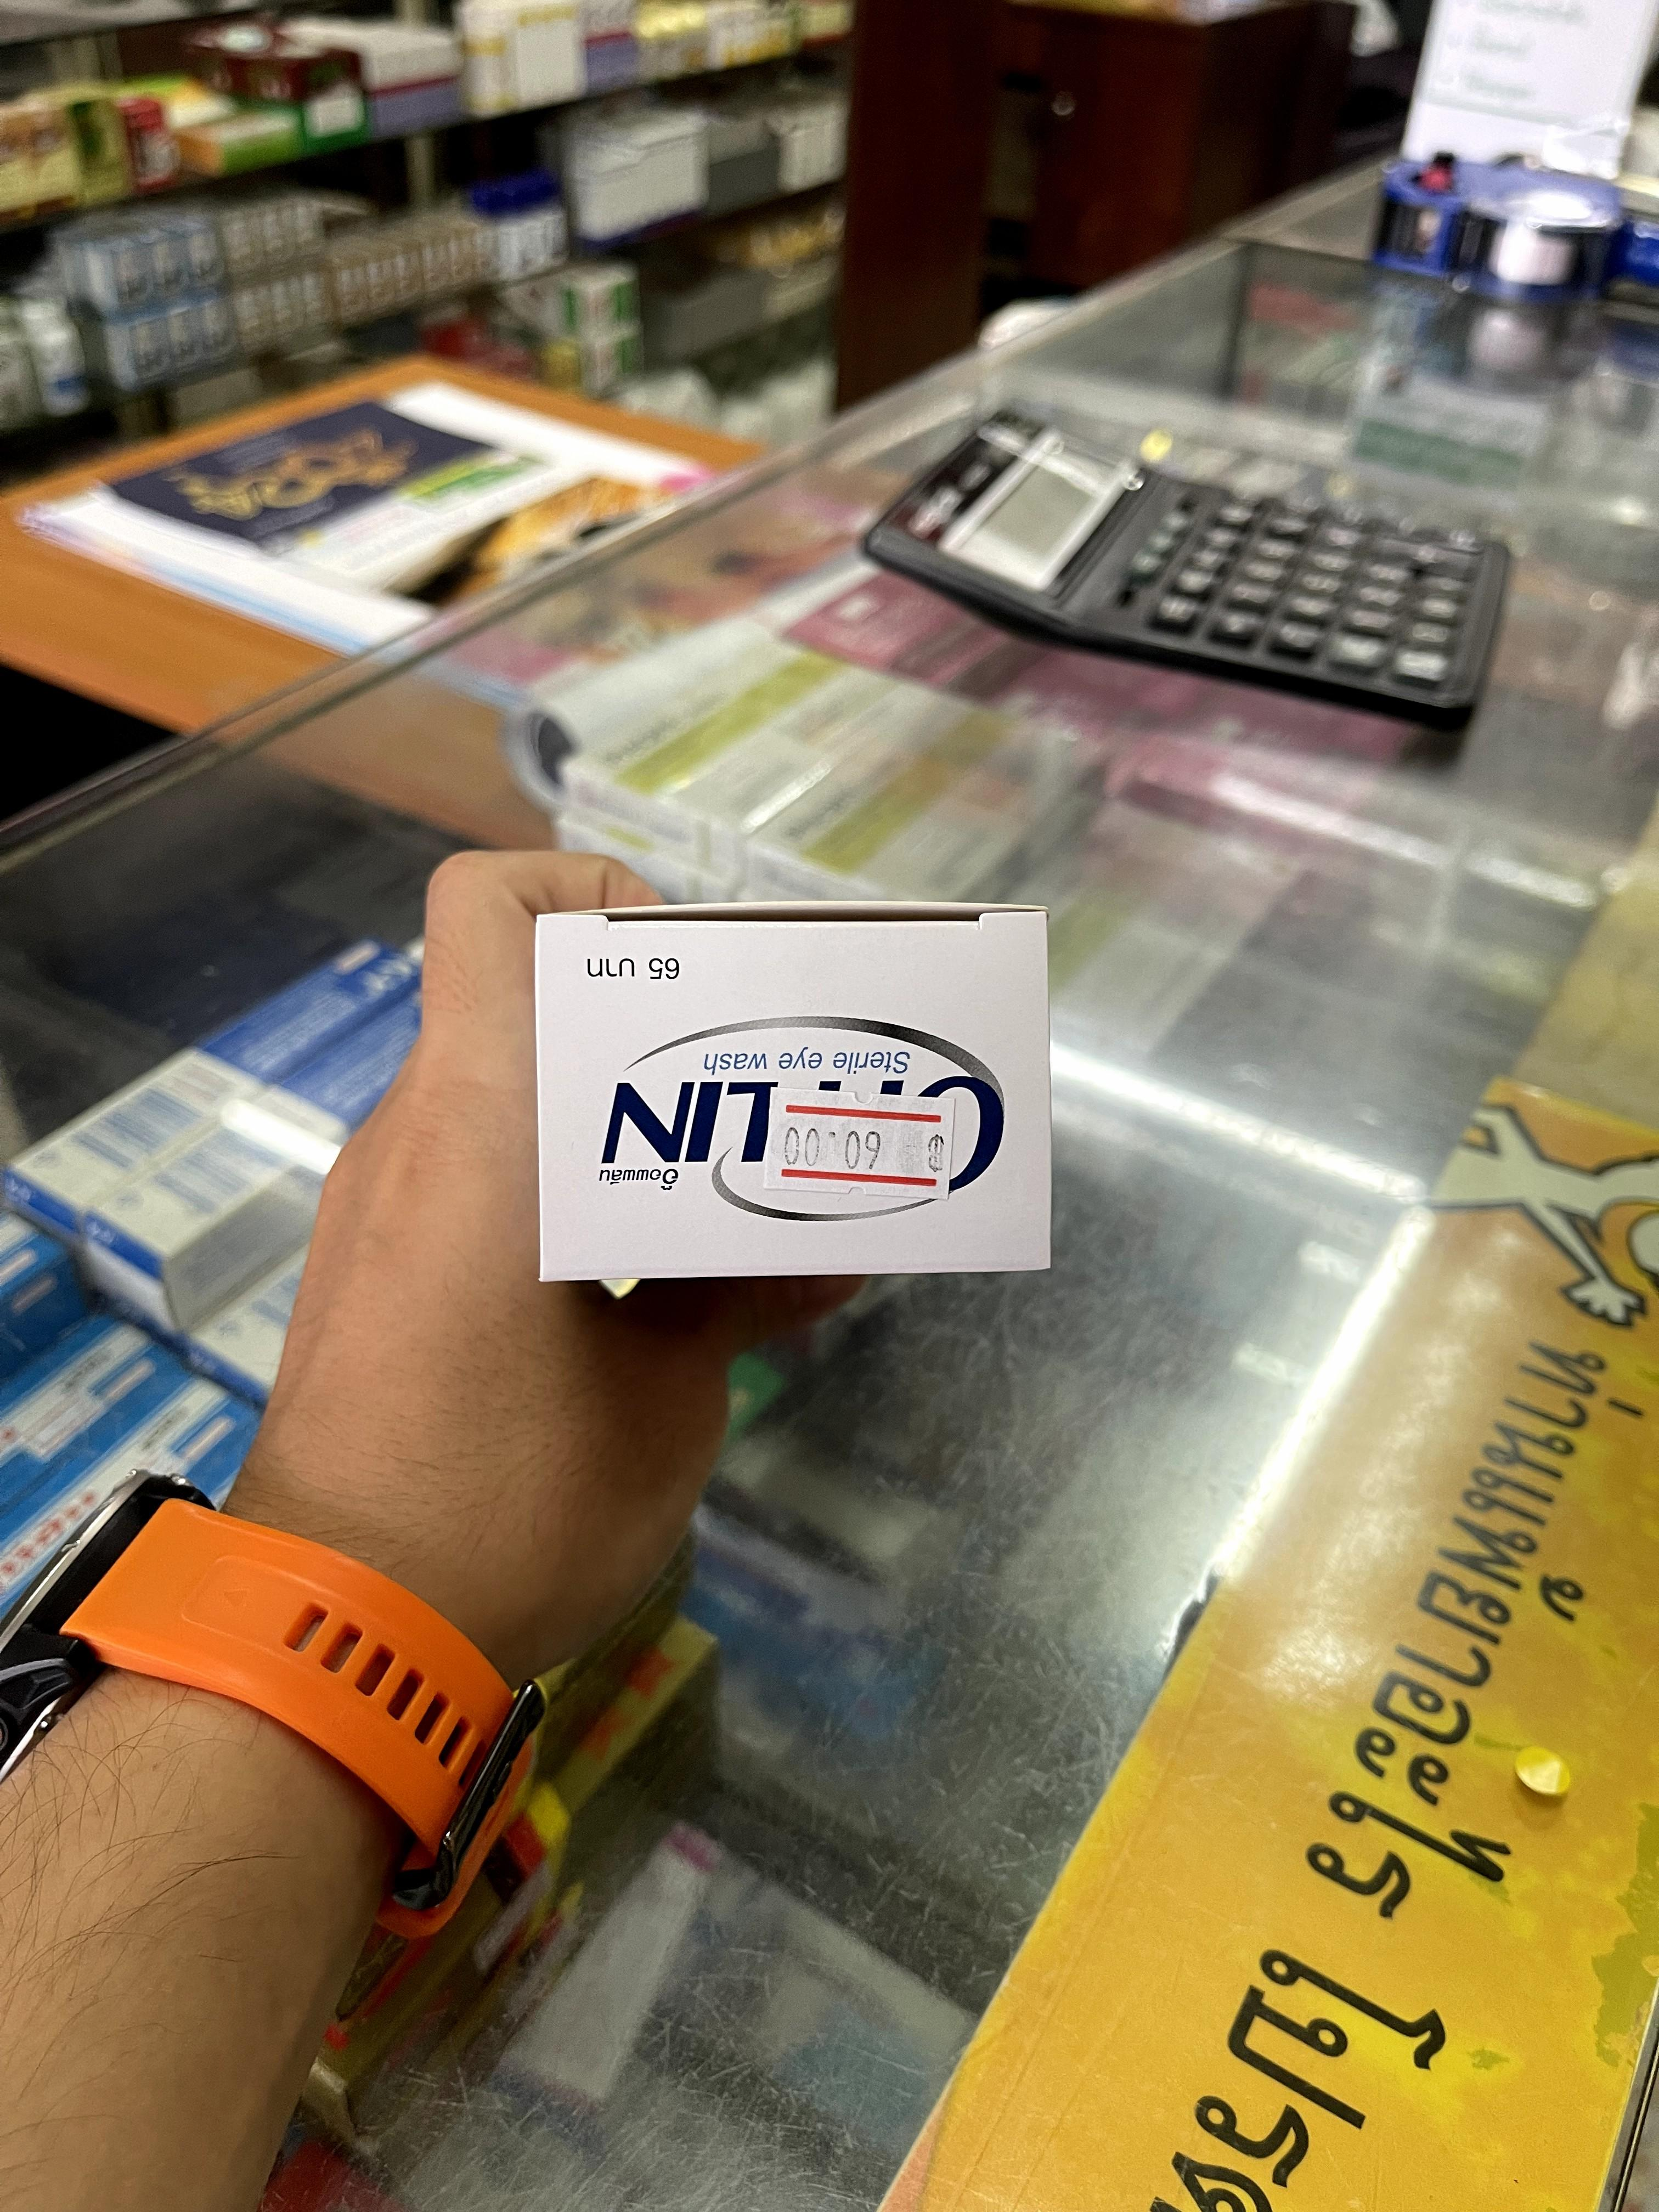Opplin: (538, 906, 1060, 1280)
